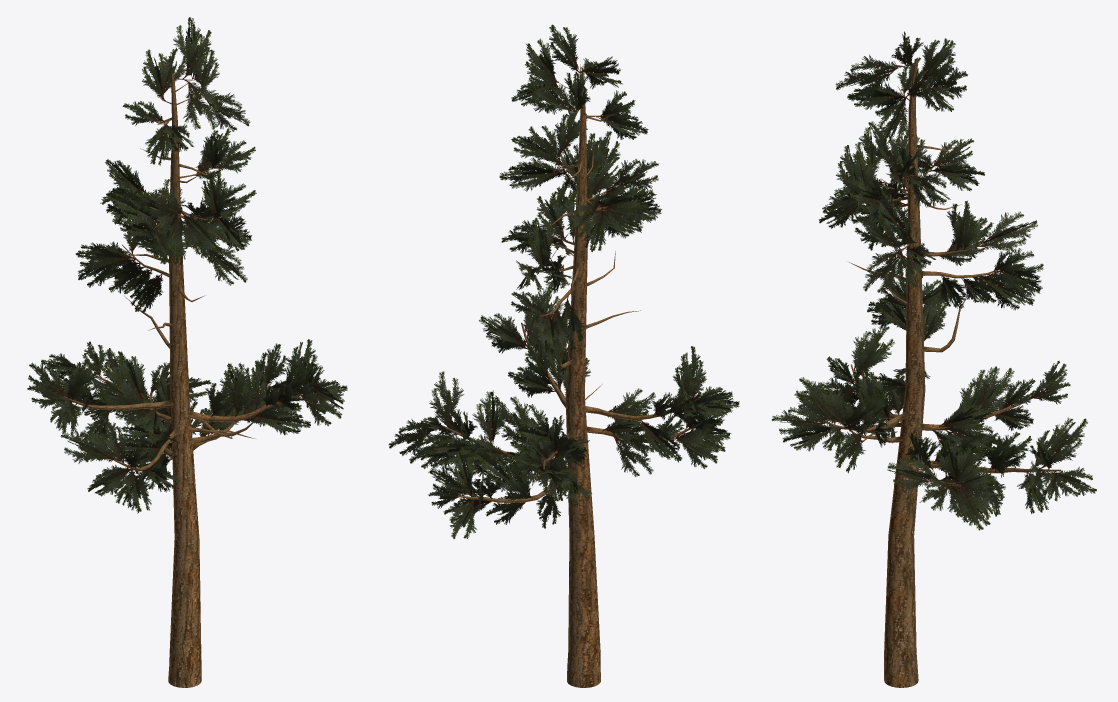
The model's file is Tree - RedWood 3-DcB0GWYs.glb.
3 renders of one model, left to right at view 1: azimuth 30°, elevation 25°; view 2: azimuth 150°, elevation 25°; view 3: azimuth 270°, elevation 25°, orthographic. The views are drawn at different scales.
Visible parts, largest first — view 1: RedWood 3; view 2: RedWood 3; view 3: RedWood 3.
Part boxes in pixels (x1=…): RedWood 3: x1=27, y1=17, x2=347, y2=687; RedWood 3: x1=388, y1=24, x2=739, y2=687; RedWood 3: x1=771, y1=31, x2=1096, y2=687.
Bounding box in the file's own units: 22.2 × 45.86 × 20.58.
2 materials, 2 textured.
